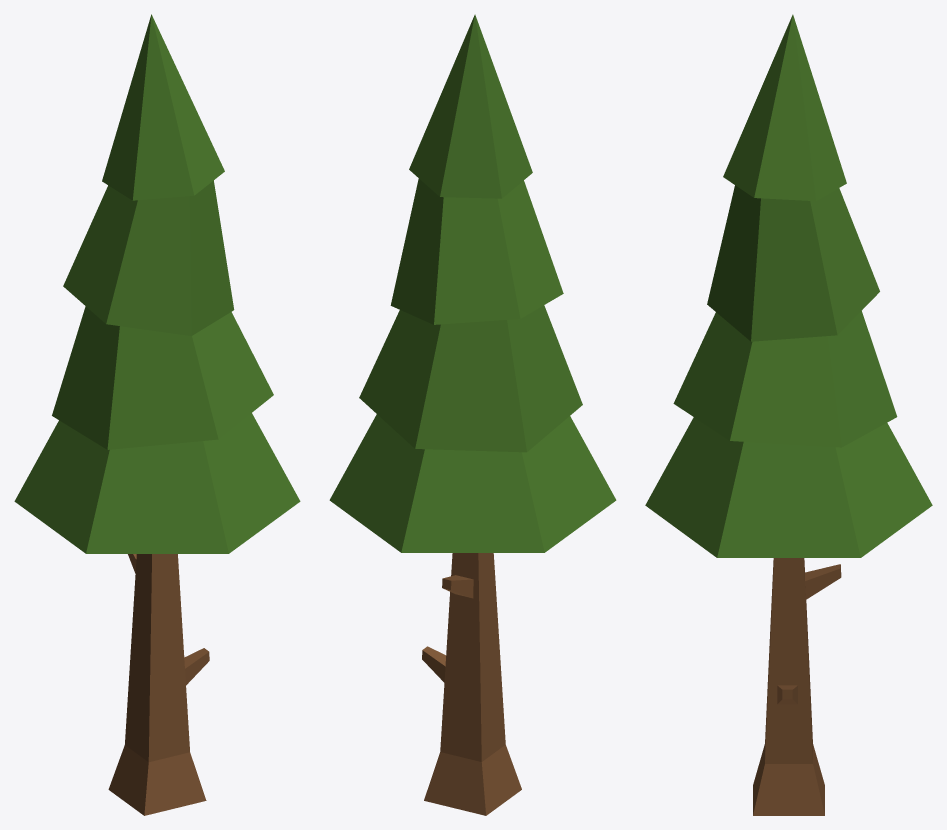
File: tree_pineTallC_detailed.glb
3 views of the same model, side by side, from view 1: azimuth 30°, elevation 25°; view 2: azimuth 150°, elevation 25°; view 3: azimuth 270°, elevation 25° (orthographic).
Parts seen in each view (by area): view 1: tree_pineTallC_detailed; view 2: tree_pineTallC_detailed; view 3: tree_pineTallC_detailed.
Part boxes in pixels (x1,y1,x2,y2): tree_pineTallC_detailed: (14, 14, 300, 815); tree_pineTallC_detailed: (329, 14, 616, 815); tree_pineTallC_detailed: (645, 14, 932, 815).
Bounding box in the file's own units: 0.4804 × 1.67 × 0.5547.
